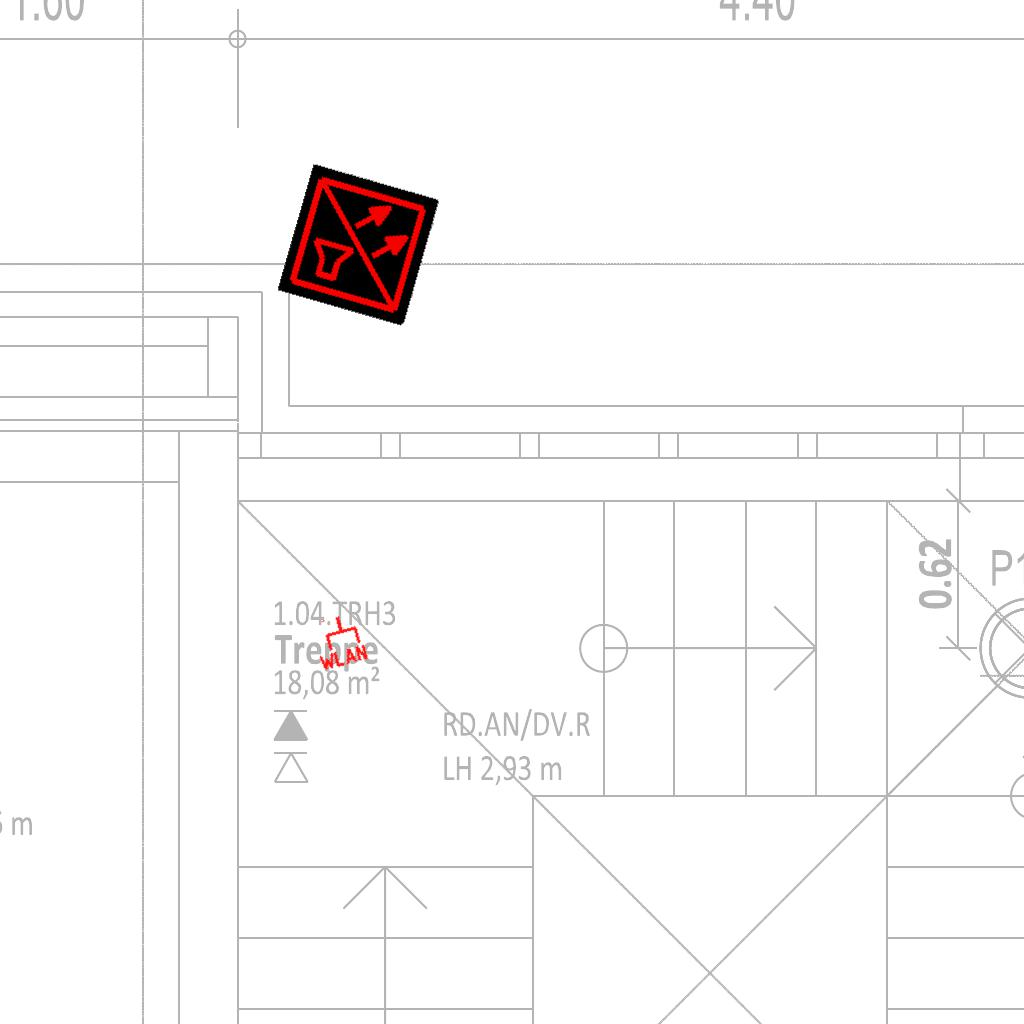OKW_Multisensormelder_(Kombination_optischer_Rauch-Kahlenmonoxid_Waerme-Melder): (277, 163, 441, 327)
WLAN: (307, 609, 371, 673)
